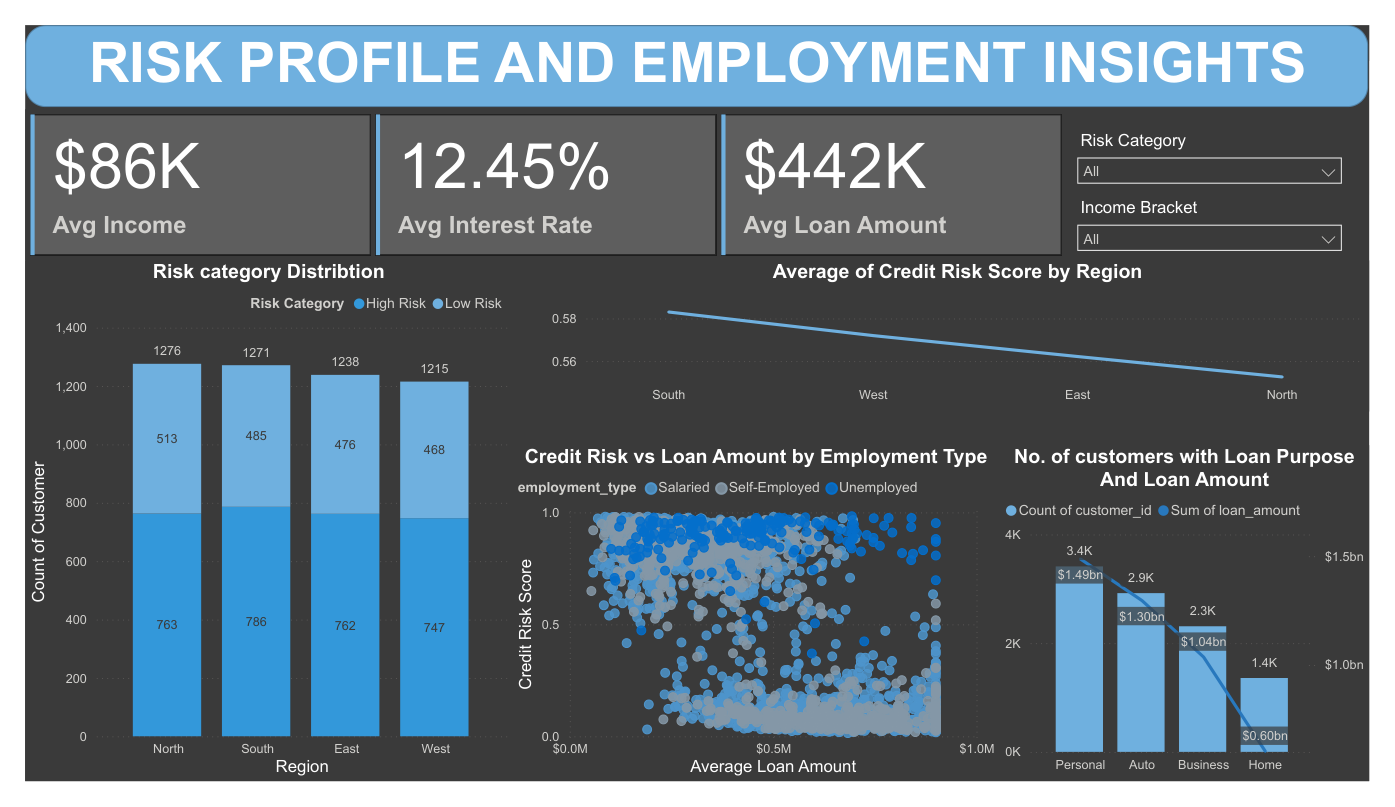

The dashboard page shown, as its layout file describes it:
{"tool":"powerbi","page":{"name":"page 2","canvas":[1280,720],"ordinal":1},"visuals":[{"type":"shape","box":[0,0,1279.4,78.3],"z":0,"group":"g1"},{"type":"columnChart","title":"Risk category Distribtion","fields":{"Category":["customers.region"],"Series":["customers.Risk Category"],"Y":["CountNonNull(customers.customer_id)"]},"box":[0,224,464,496],"z":0},{"type":"textbox","box":[17,0,1247.3,78.3],"z":1000,"group":"g1"},{"type":"scatterChart","title":"Credit Risk vs Loan Amount by Employment Type","fields":{"Series":["customers.employment_type"],"X":["credit_risk_project loans.loan_amount"],"Y":["customers.credit_risk_score"]},"box":[464,400,464,320],"z":1000},{"type":"cardVisual","fields":{"Data":["customers.Avg Income","Avg(credit_risk_project loans.Interest Rate (%))","credit_risk_project loans.Avg Loan Amount"]},"box":[0,80,992,144],"z":2000},{"type":"lineChart","fields":{"Category":["customers.region"],"Y":["Avg(customers.credit_risk_score)"]},"box":[496,224,784,144],"z":3000},{"type":"lineStackedColumnComboChart","title":"No. of customers with Loan Purpose And Loan Amount","fields":{"Category":["credit_risk_project loans.loan_purpose"],"Y":["CountNonNull(credit_risk_project loans.customer_id)"],"Y2":["Sum(credit_risk_project loans.loan_amount)"]},"box":[928,400,352,320],"z":4000},{"type":"slicer","fields":{"Values":["customers.Risk Category"]},"box":[992,96,272,80],"z":5000},{"type":"slicer","fields":{"Values":["customers.Income Bracket"]},"box":[992,160,272,64],"z":6000},{"type":"group","id":"g1","title":"Group 1","box":[0,0,1280,80],"z":7000}]}

Visuals, with their boxes in screenshot pixels (x1, y1, x2, y2), scaled from the page's 1280x720 canvas onto the 1395x807 screenshot:
shape: {"left": 0, "top": 0, "right": 1394, "bottom": 88}
"Risk category Distribtion" columnChart: {"left": 0, "top": 251, "right": 506, "bottom": 806}
textbox: {"left": 19, "top": 0, "right": 1378, "bottom": 88}
"Credit Risk vs Loan Amount by Employment Type" scatterChart: {"left": 506, "top": 448, "right": 1011, "bottom": 806}
cardVisual - customers.Avg Income x Avg(credit_risk_project loans.Interest Rate (%)): {"left": 0, "top": 90, "right": 1081, "bottom": 251}
lineChart - customers.region x Avg(customers.credit_risk_score): {"left": 541, "top": 251, "right": 1394, "bottom": 412}
"No. of customers with Loan Purpose And Loan Amount" lineStackedColumnComboChart: {"left": 1011, "top": 448, "right": 1394, "bottom": 806}
slicer - customers.Risk Category: {"left": 1081, "top": 108, "right": 1378, "bottom": 197}
slicer - customers.Income Bracket: {"left": 1081, "top": 179, "right": 1378, "bottom": 251}
"Group 1" group: {"left": 0, "top": 0, "right": 1394, "bottom": 90}
